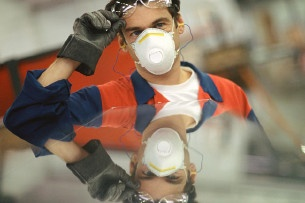Mask: (120, 17, 178, 75)
